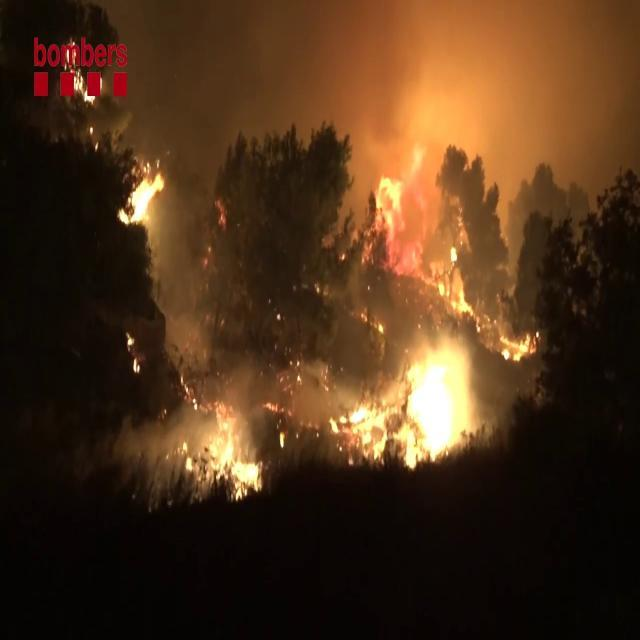Fire: (369, 111, 475, 319), (396, 342, 464, 462), (204, 407, 262, 498), (334, 391, 390, 461), (120, 160, 164, 230), (499, 320, 538, 372)
Smoke: (158, 0, 628, 230)
